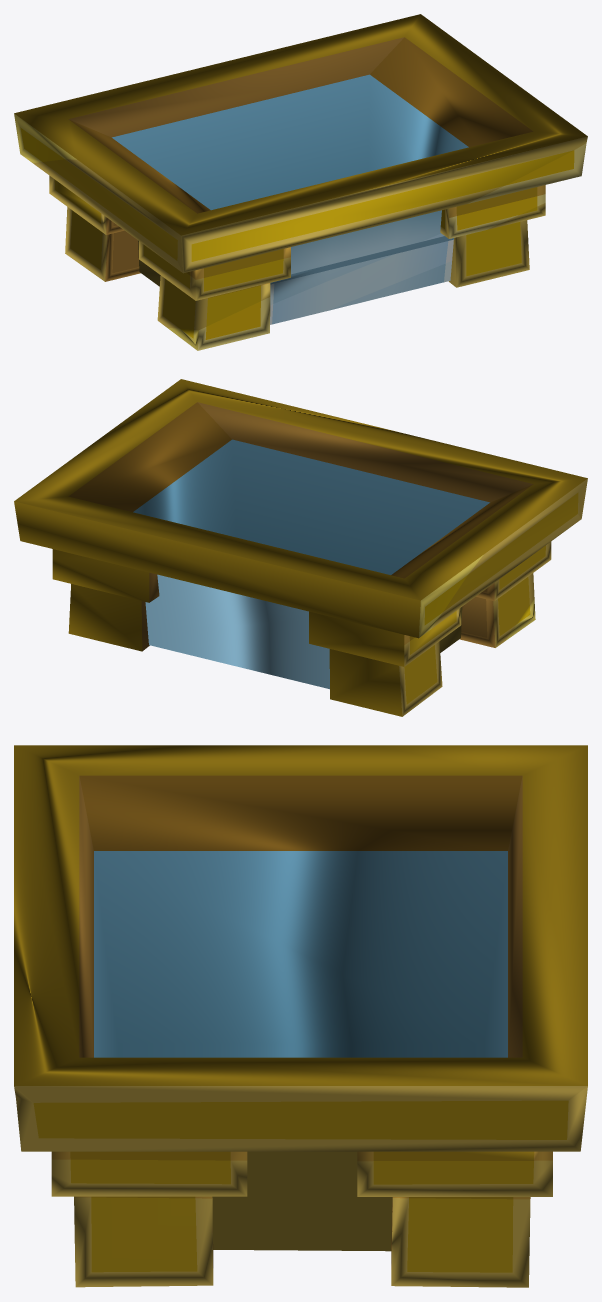
Rendered from PenglantisChestBottom_1.glb.
3 renders of one model, top to bottom at view 1: azimuth 30°, elevation 25°; view 2: azimuth 150°, elevation 25°; view 3: azimuth 270°, elevation 25°, orthographic. The views are drawn at different scales.
Parts seen in each view (by area): view 1: PenglantisChestBottom; view 2: PenglantisChestBottom; view 3: PenglantisChestBottom.
Part boxes in pixels (<box>): PenglantisChestBottom: <box>14,14,587,350</box>; PenglantisChestBottom: <box>14,379,587,716</box>; PenglantisChestBottom: <box>14,745,587,1287</box>.
Bounding box in the file's own units: 1.44 × 0.4635 × 1.03.
